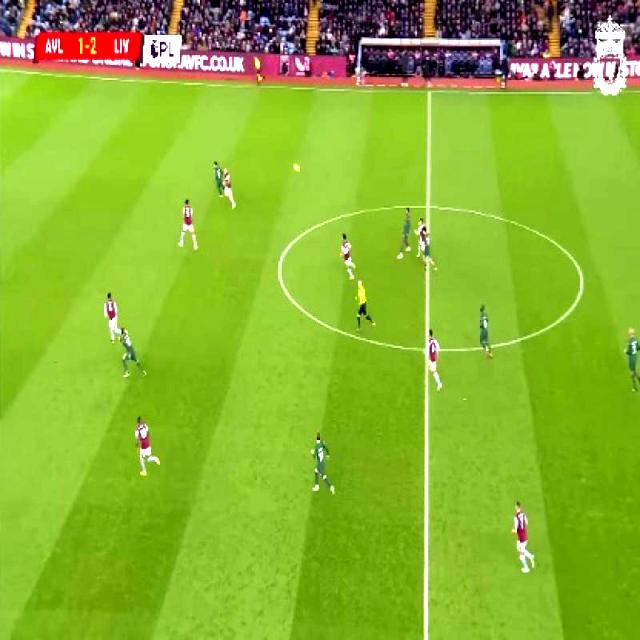halfcircle_bottom: (414, 334, 434, 362)
halfcircle_top: (418, 192, 438, 218)
midline_top_intersection: (422, 80, 438, 100)
